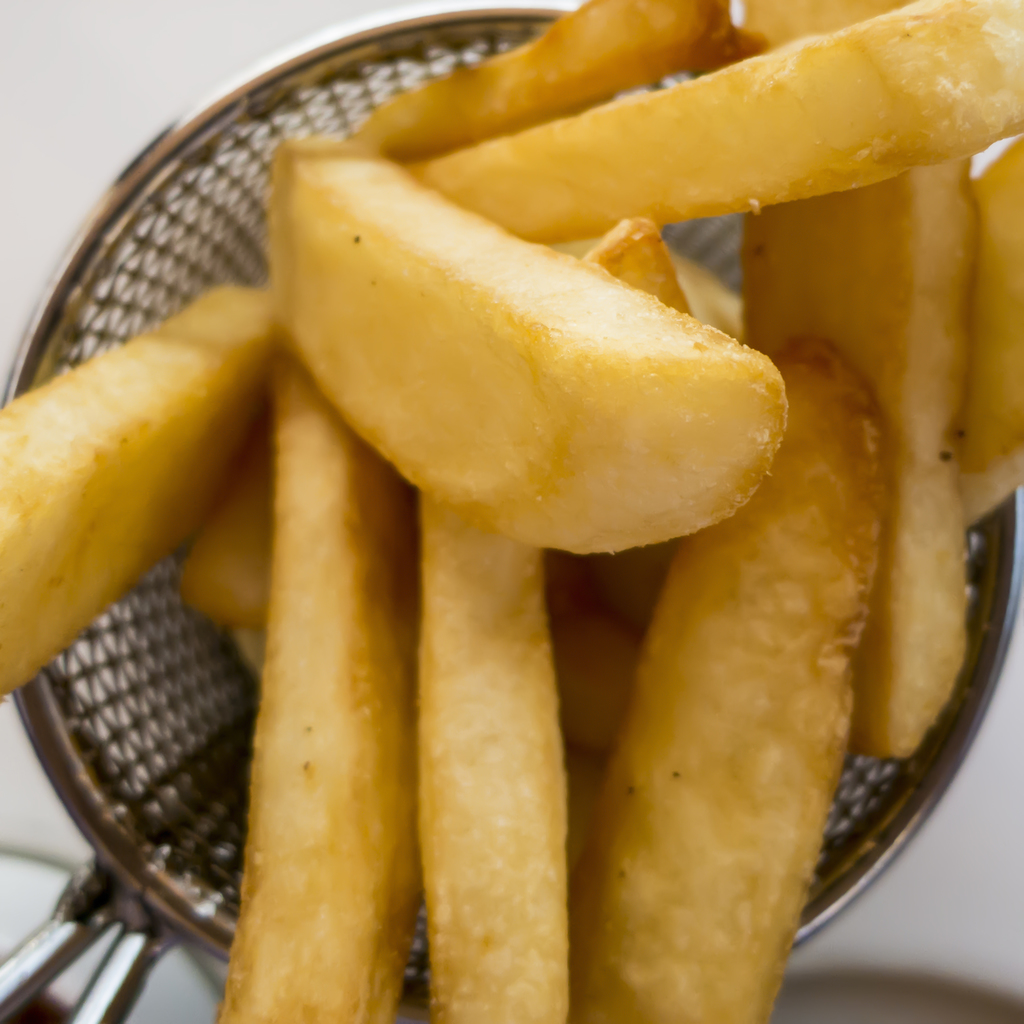French fries: (1, 2, 1022, 1023)
